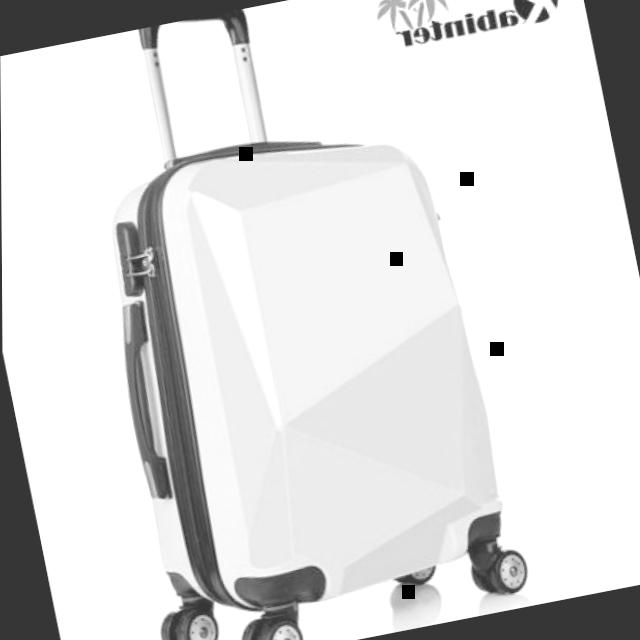luggage: (71, 94, 533, 633)
